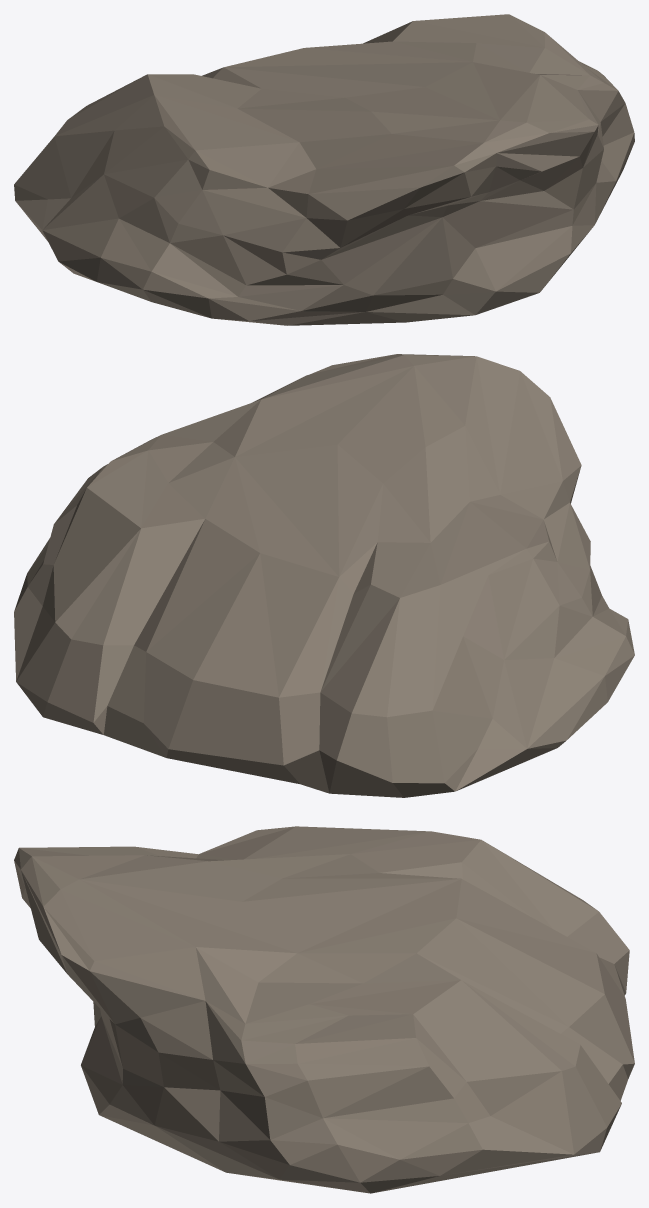
Rendered from SM_Env_Rock_06.glb.
3 renders of one model, top to bottom at view 1: azimuth 30°, elevation 25°; view 2: azimuth 150°, elevation 25°; view 3: azimuth 270°, elevation 25°, orthographic. The views are drawn at different scales.
Parts seen in each view (by area): view 1: SM_Env_Rock_06; view 2: SM_Env_Rock_06; view 3: SM_Env_Rock_06.
Boxes of the visible parts, x1,y1,x2,y2 form: SM_Env_Rock_06: (14,14,634,325); SM_Env_Rock_06: (14,354,634,797); SM_Env_Rock_06: (14,826,634,1193).
Bounding box in the file's own units: 10.73 × 3.98 × 9.97.
1 material, 1 textured.
